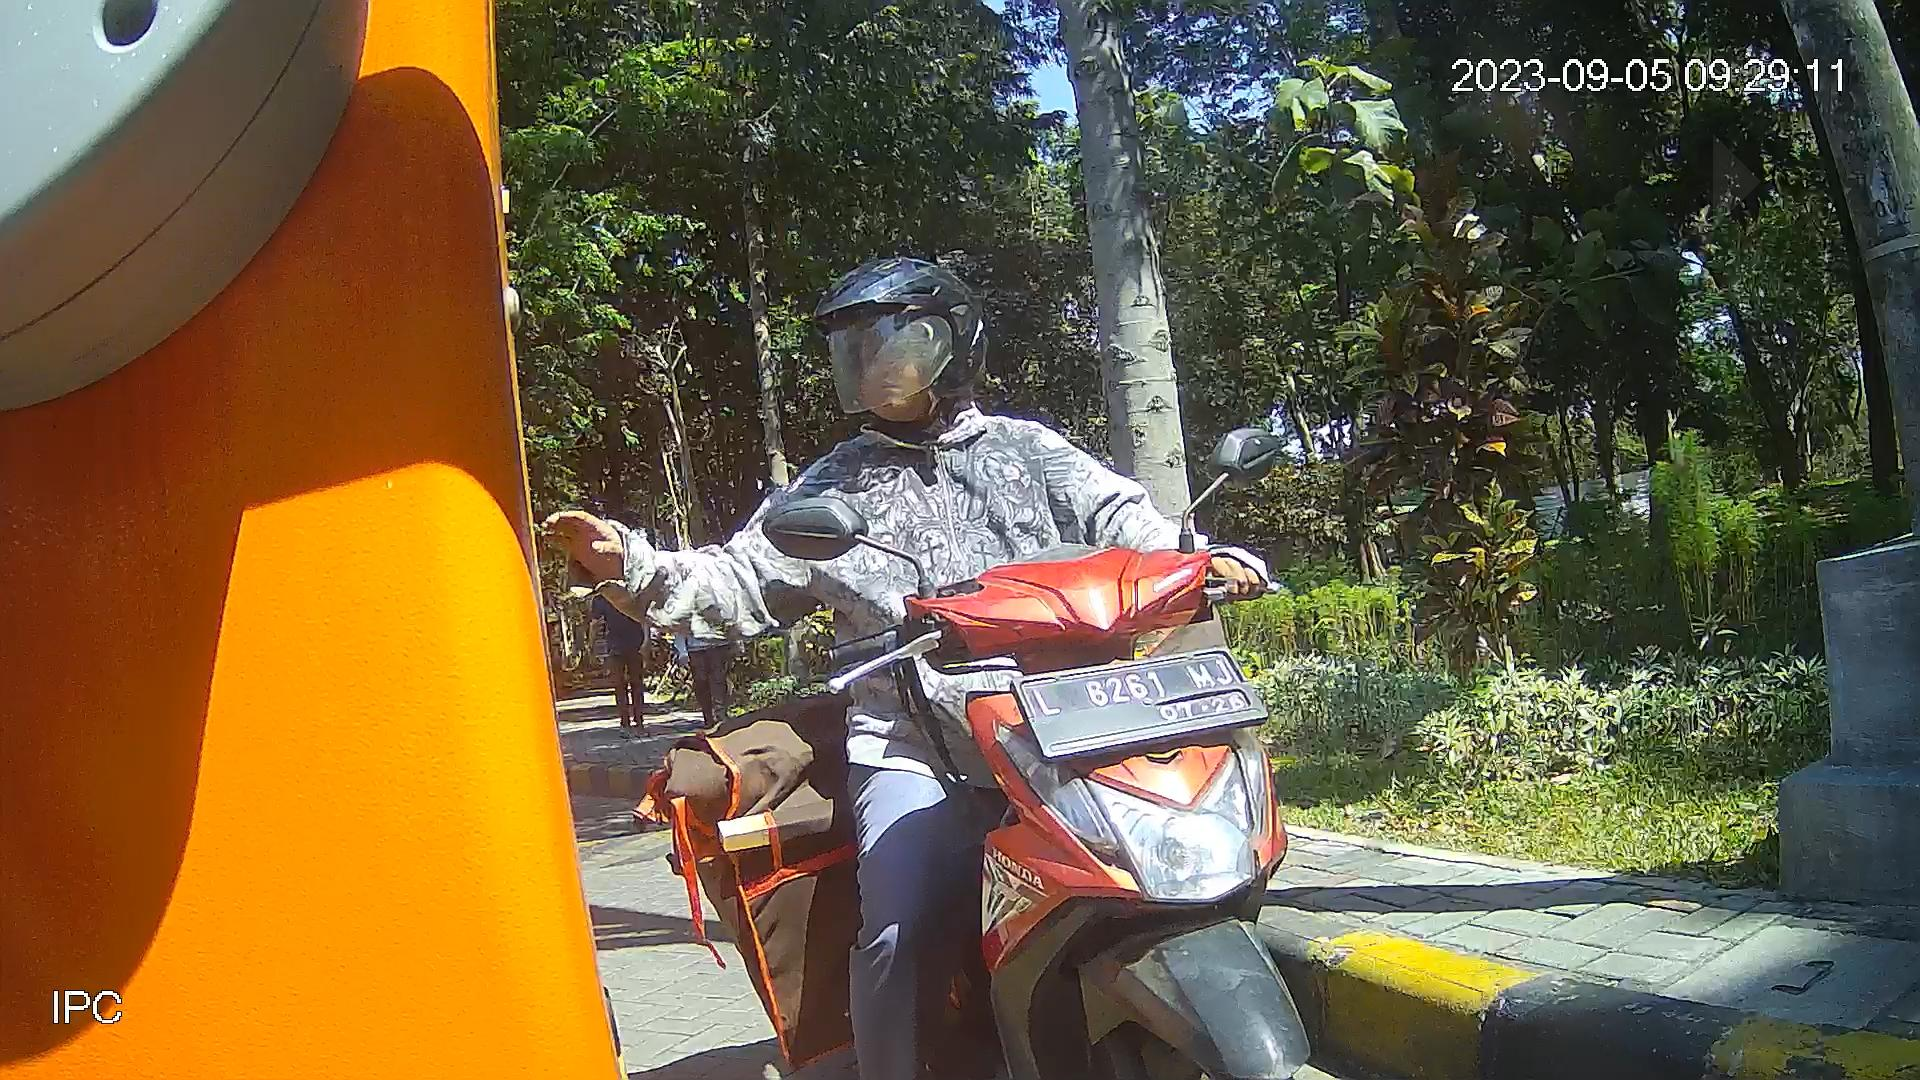plat: (1005, 645, 1275, 762)
